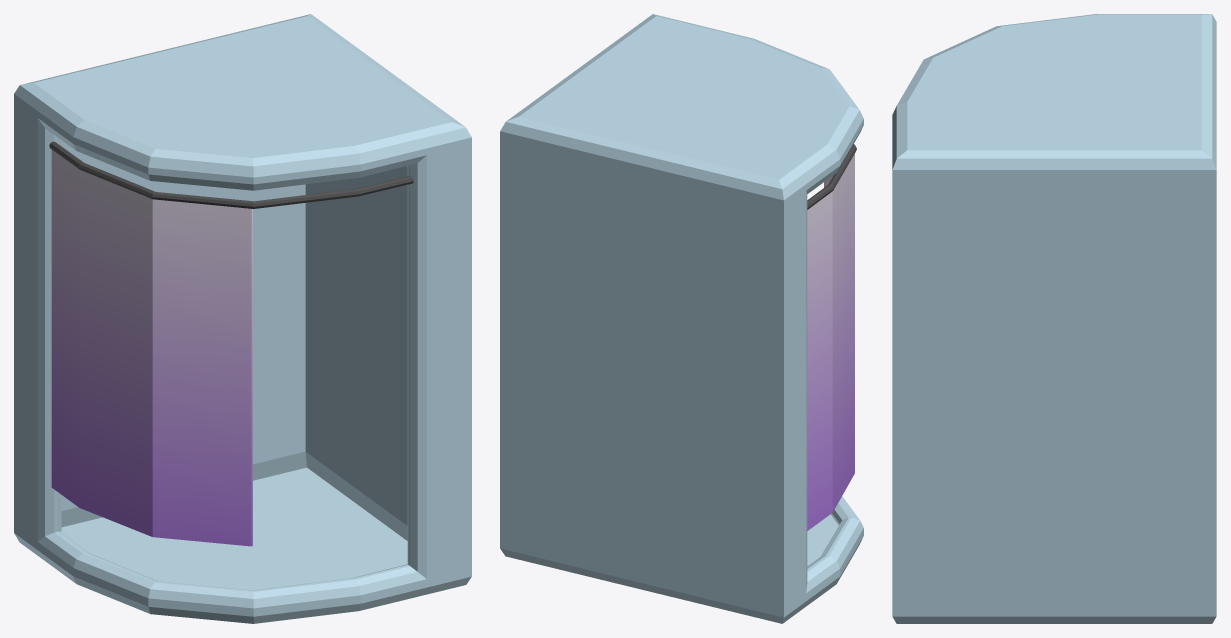
File: Shower.fbx
3 renders of one model, left to right at view 1: azimuth 30°, elevation 25°; view 2: azimuth 150°, elevation 25°; view 3: azimuth 270°, elevation 25°, orthographic. The views are drawn at different scales.
Visible parts, largest first — view 1: Shower; view 2: Shower; view 3: Shower.
Boxes of the visible parts, x1=… form: Shower: x1=14, y1=14, x2=471, y2=623; Shower: x1=500, y1=14, x2=863, y2=623; Shower: x1=892, y1=14, x2=1216, y2=623.
Size of the model in its own units: 1.53 by 2.27 by 1.41.
1 material, 1 textured.
